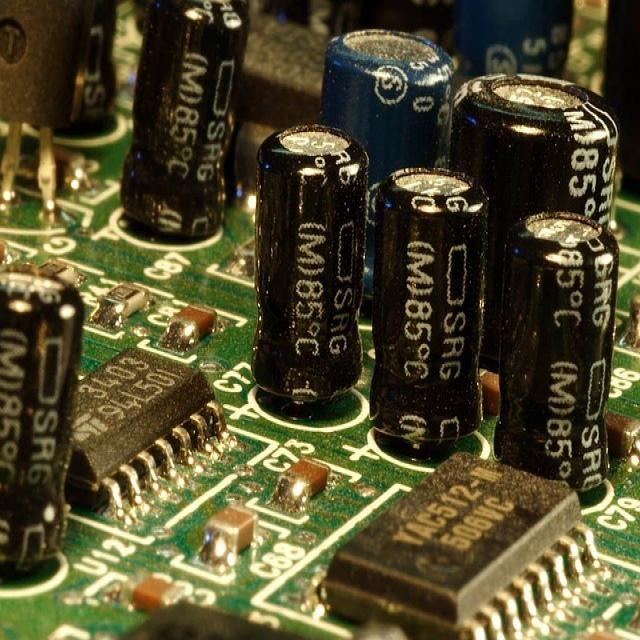Electrolytic capacitor: (364, 166, 498, 448), (502, 200, 622, 505), (257, 123, 370, 421), (132, 0, 243, 251)
